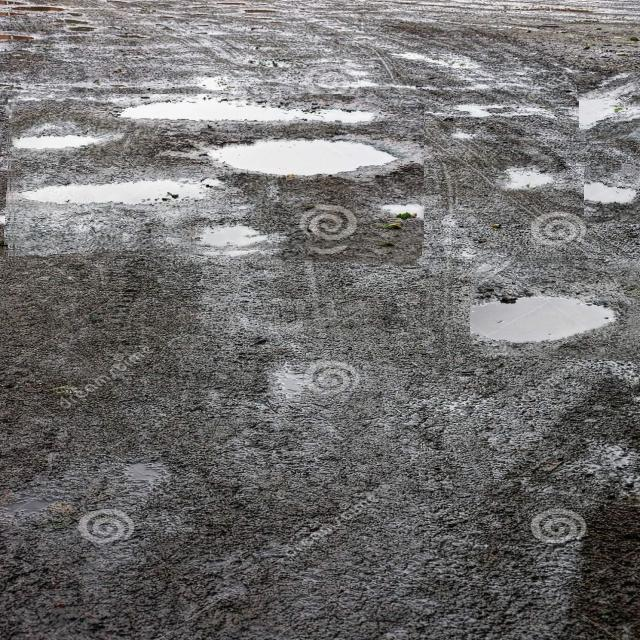Pothole: (6, 94, 424, 261), (470, 258, 640, 359), (577, 73, 640, 141), (584, 164, 640, 223), (496, 157, 554, 195)
